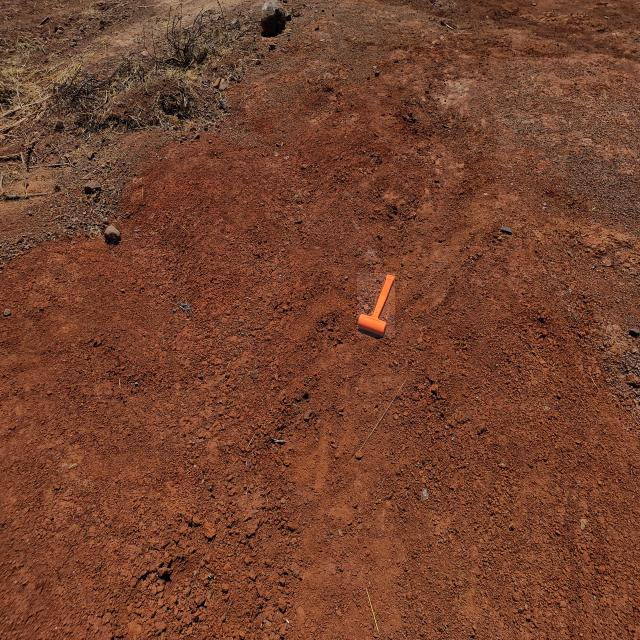Orange_hammer: (357, 273, 395, 337)
